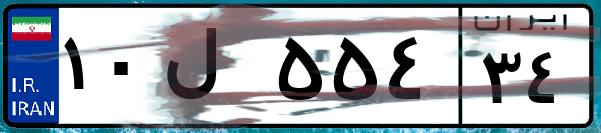0: (110, 28, 158, 98)
1: (57, 26, 110, 100)
3: (475, 38, 525, 113)
4: (385, 28, 445, 110), (525, 38, 570, 115)
5: (270, 28, 330, 110), (330, 28, 385, 110)
ل: (158, 20, 270, 120)
